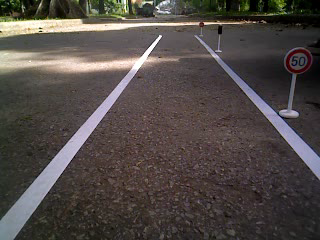limit 50: (281, 44, 315, 78)
